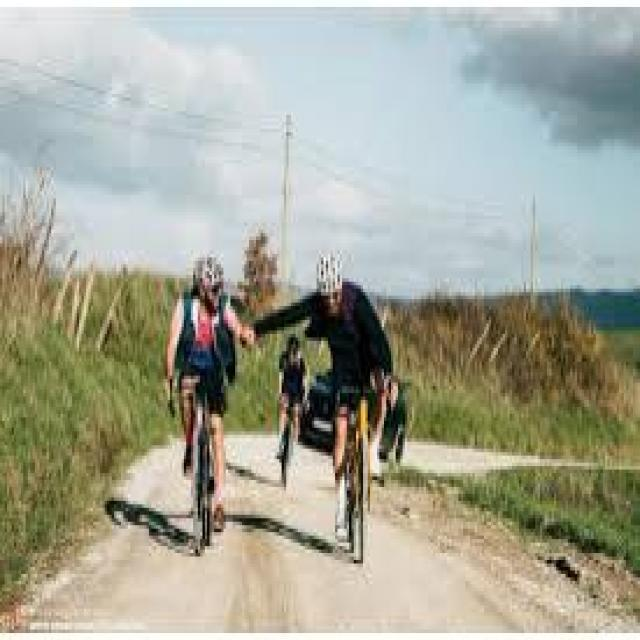bicycle: (181, 377, 225, 548), (336, 387, 378, 565)
